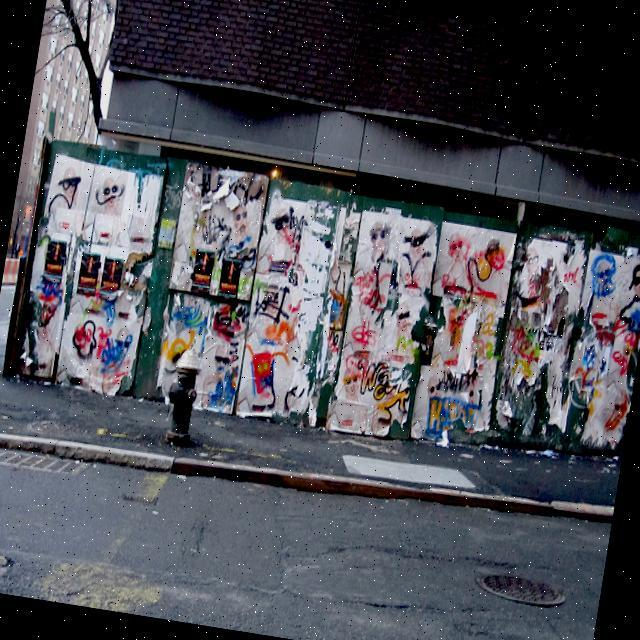fire_hydrant: (158, 341, 206, 447)
